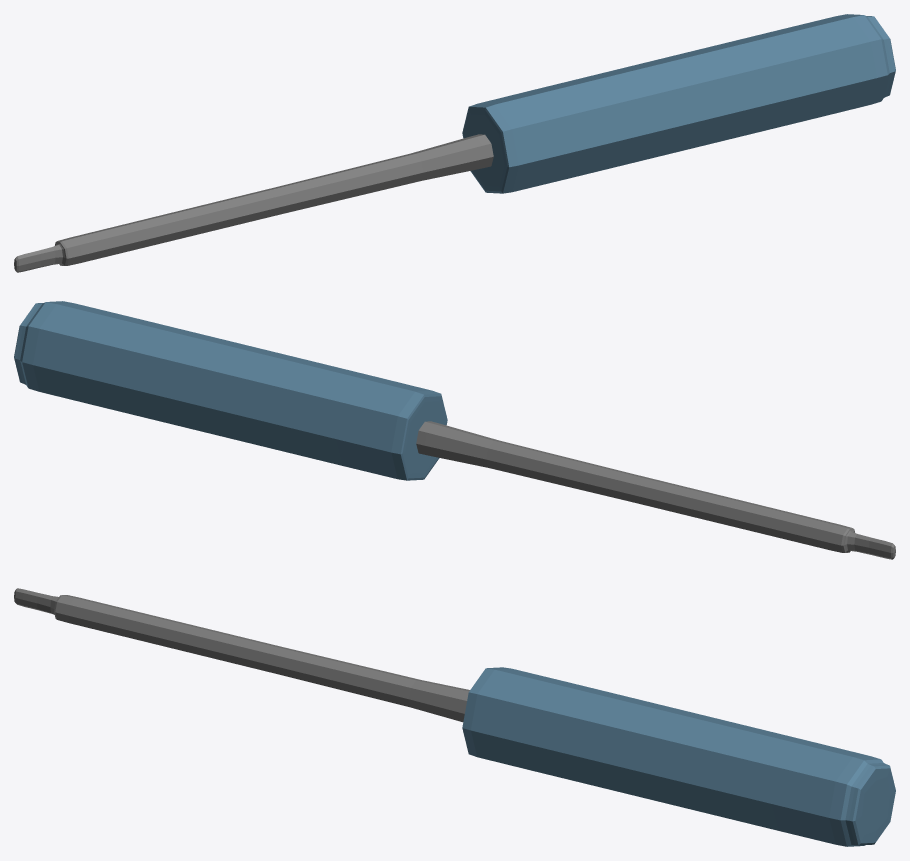
The model's file is ScrewDriver.fbx.
3 renders of one model, top to bottom at view 1: azimuth 30°, elevation 25°; view 2: azimuth 150°, elevation 25°; view 3: azimuth 330°, elevation 25°, orthographic.
Parts seen in each view (by area): view 1: ScrewDriver; view 2: ScrewDriver; view 3: ScrewDriver.
Part boxes in pixels (x1=…): ScrewDriver: x1=14, y1=14, x2=895, y2=272; ScrewDriver: x1=14, y1=301, x2=895, y2=559; ScrewDriver: x1=14, y1=588, x2=895, y2=846.
Bounding box in the file's own units: 103 × 9.9 × 9.9.
